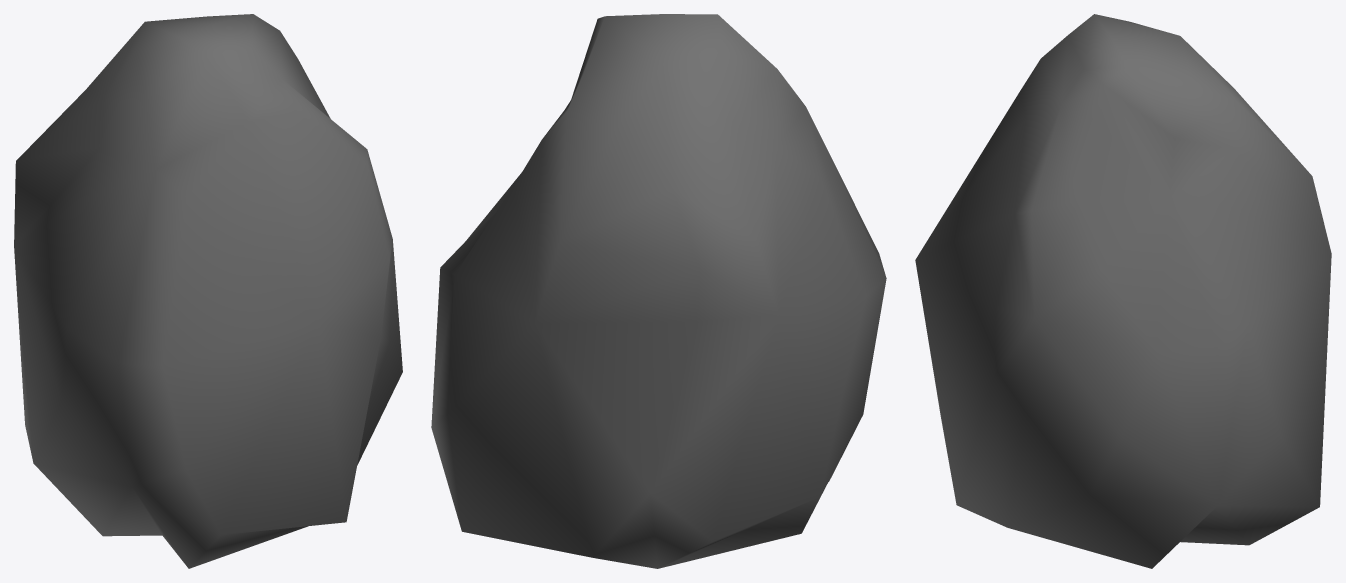
File: Piedra_1_FBX.fbx
3 views of the same model, side by side, from view 1: azimuth 30°, elevation 25°; view 2: azimuth 150°, elevation 25°; view 3: azimuth 270°, elevation 25° (orthographic). The views are drawn at different scales.
Parts seen in each view (by area): view 1: Piedra_1; view 2: Piedra_1; view 3: Piedra_1.
Boxes of the visible parts, x1=… form: Piedra_1: x1=14, y1=14, x2=402, y2=568; Piedra_1: x1=431, y1=14, x2=886, y2=568; Piedra_1: x1=915, y1=14, x2=1331, y2=568.
Bounding box in the file's own units: 1.49 × 1.92 × 1.55.
